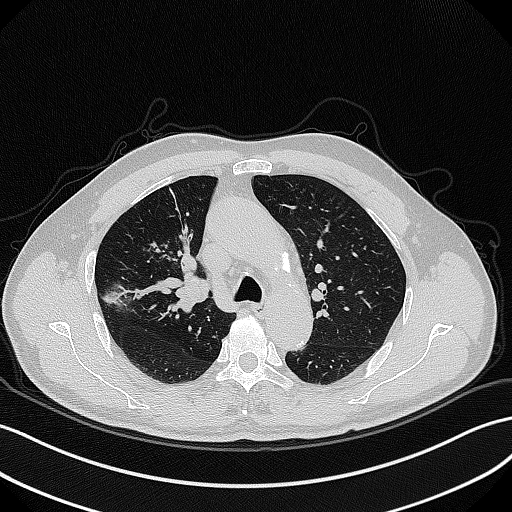nodule: (99, 283, 130, 309)
